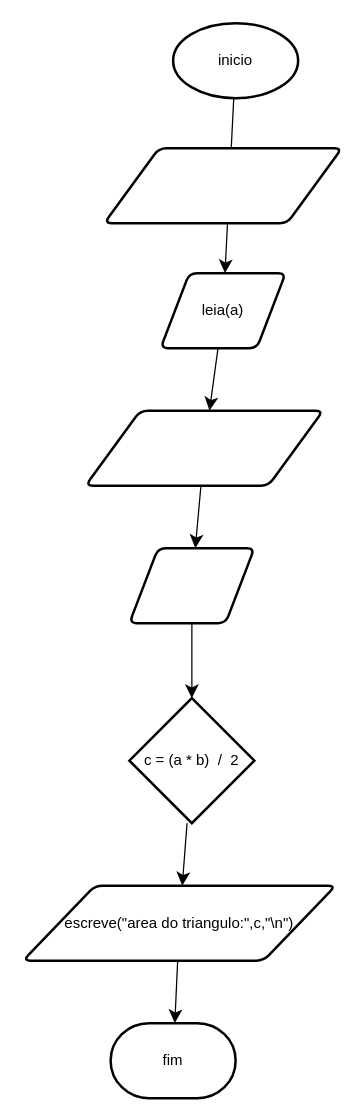
Some shapes in this 364 by 1120 pixel diagram are drawn without their labels. Each missing label, with the centre of its shape:
escreva("altura: "): point 204,447
escreva("base:"): point 222,185
leia(b): point 191,585
